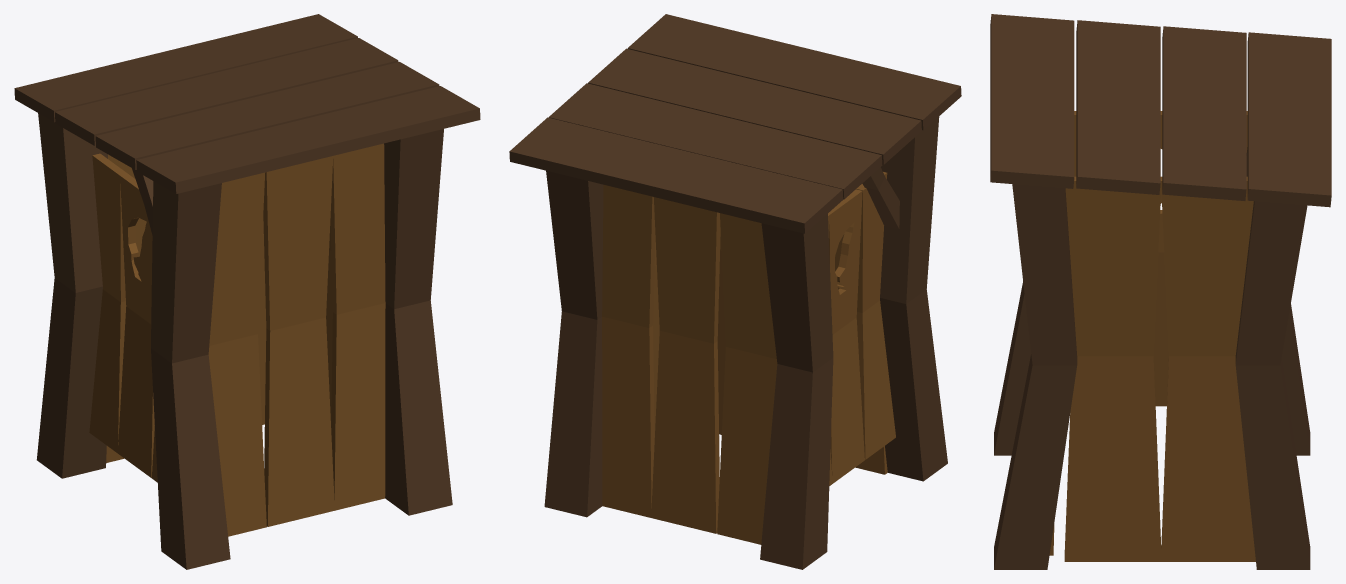
The model's file is toilette.fbx.
3 renders of one model, left to right at view 1: azimuth 30°, elevation 25°; view 2: azimuth 150°, elevation 25°; view 3: azimuth 270°, elevation 25°, orthographic. The views are drawn at different scales.
Visible parts, largest first — view 1: Cube.035; view 2: Cube.035; view 3: Cube.035.
Part boxes in pixels (<box>): Cube.035: <box>14,14,480,569</box>; Cube.035: <box>509,14,961,569</box>; Cube.035: <box>990,14,1331,569</box>.
Bounding box in the file's own units: 287 × 353 × 264.
